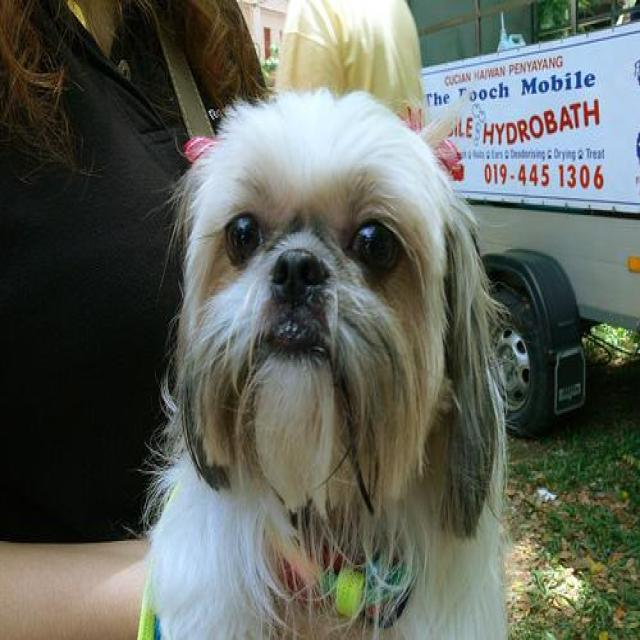shih_tzu: (122, 86, 510, 638)
